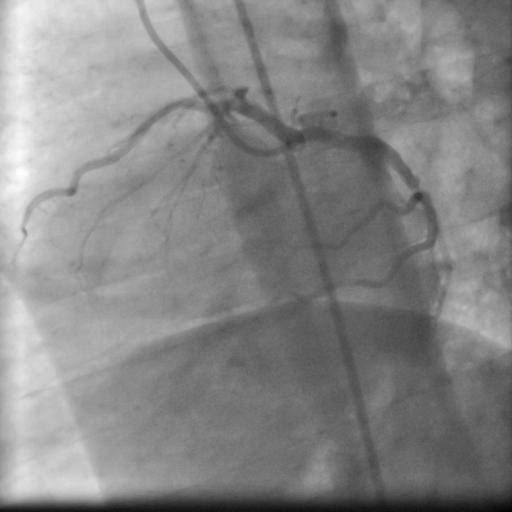Stenosis: (408, 181, 425, 195)
